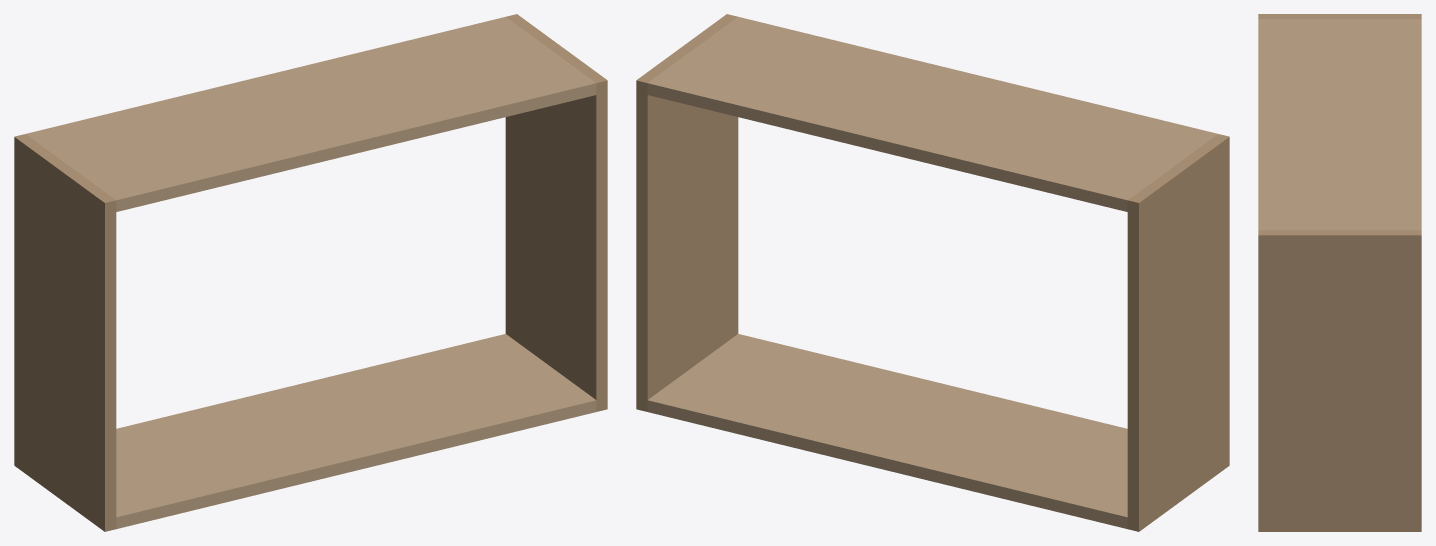
The model's file is demo_full_shelf.glb.
3 renders of one model, left to right at view 1: azimuth 30°, elevation 25°; view 2: azimuth 150°, elevation 25°; view 3: azimuth 270°, elevation 25°, orthographic. The views are drawn at different scales.
Visible parts, largest first — view 1: top_shelf, bottom_shelf, left_side, right_side; view 2: top_shelf, bottom_shelf, left_side, right_side; view 3: right_side, top_shelf, left_side.
Boxes of the visible parts, x1=… form: top_shelf: x1=26, y1=16, x2=596, y2=211; bottom_shelf: x1=116, y1=334, x2=596, y2=528; left_side: x1=14, y1=134, x2=116, y2=531; right_side: x1=505, y1=14, x2=607, y2=411; top_shelf: x1=647, y1=16, x2=1217, y2=211; bottom_shelf: x1=647, y1=334, x2=1127, y2=528; left_side: x1=1127, y1=134, x2=1229, y2=531; right_side: x1=636, y1=14, x2=738, y2=411; right_side: x1=1258, y1=230, x2=1421, y2=531; top_shelf: x1=1258, y1=19, x2=1421, y2=230; left_side: x1=1258, y1=14, x2=1421, y2=18.
Bounding box in the file's own units: 0.8 × 0.5 × 0.25.
